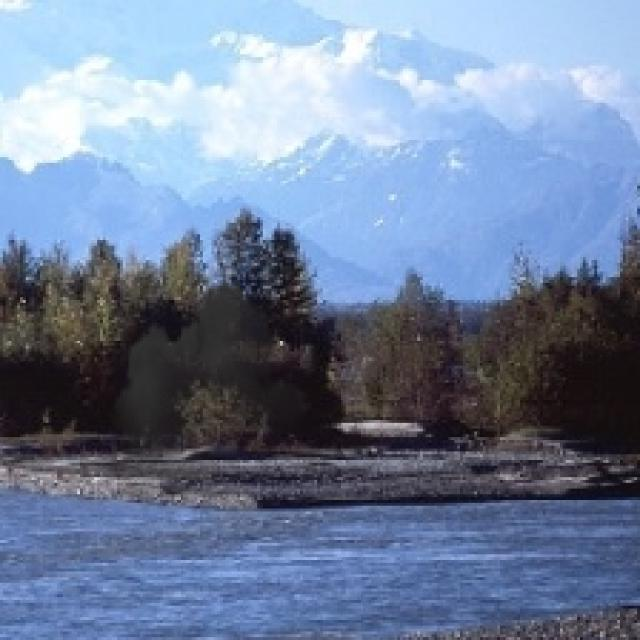Smoke: (108, 271, 314, 526)
